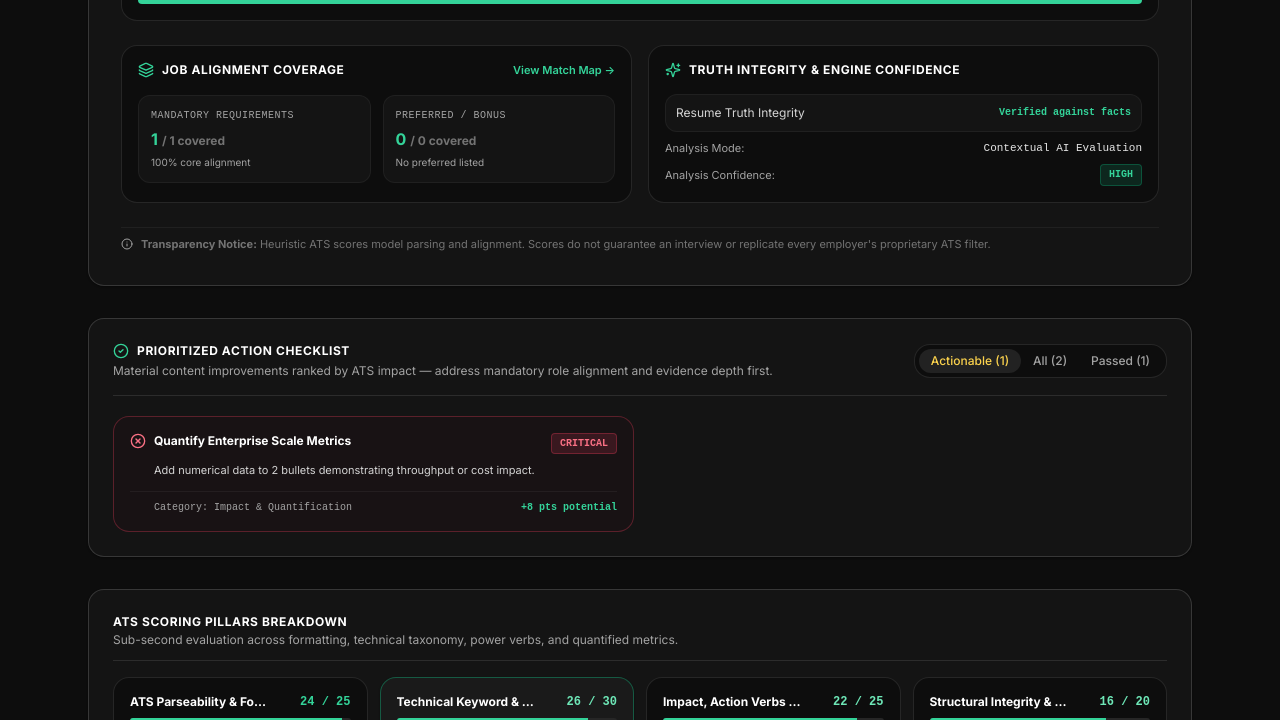
Test: ScannerPage ATS Evaluation Suite › renders PrioritizedActionChecklist sorted by priority and filters actionable checks
The image size is (1280, 720).
(page scrolled)
Expected: the element with test id "prioritized-action-checklist" is shown, [88,318,1192,557]
Expected: the text "Quantify Enterprise Scale Metrics" is shown, [154,432,351,448]
Step 1. Click the button "All (2)" → click(1050, 360), box [1021,348,1079,372]
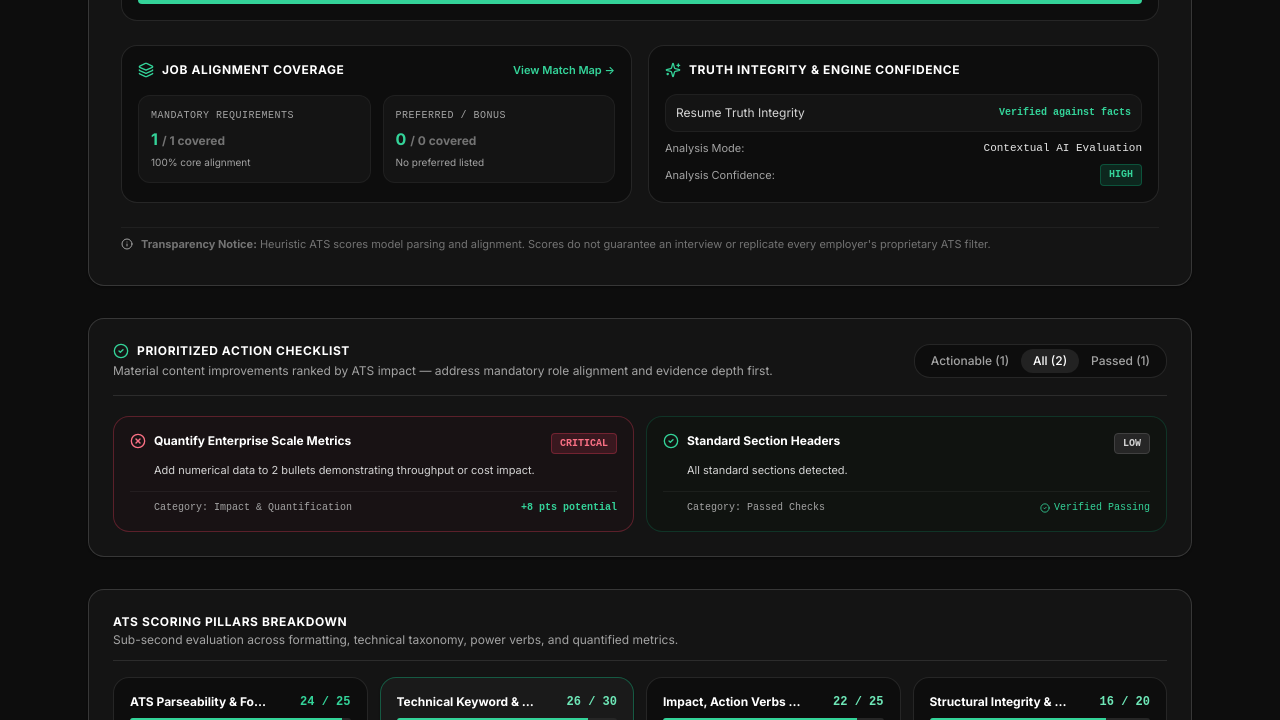
Expected: the text "Standard Section Headers" is shown, [687,432,840,448]
